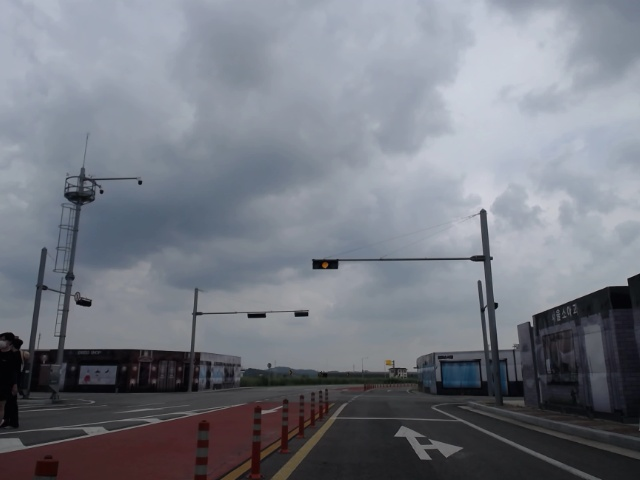orange_3: (311, 260, 338, 270)
